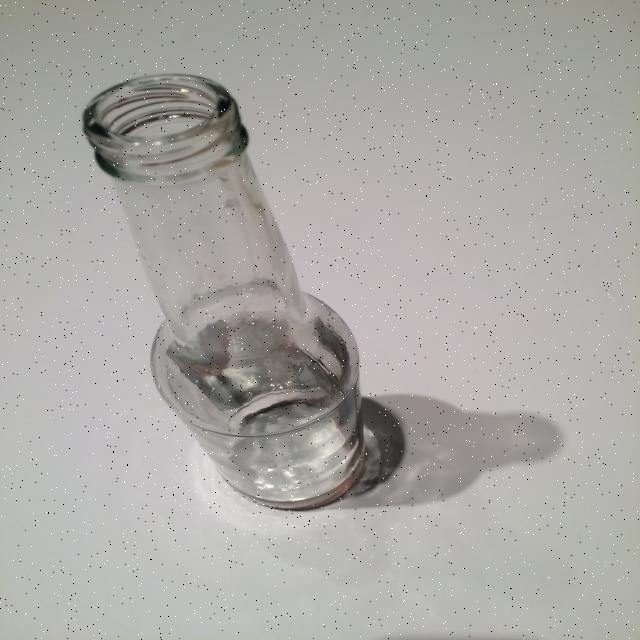glass: (81, 71, 405, 512)
